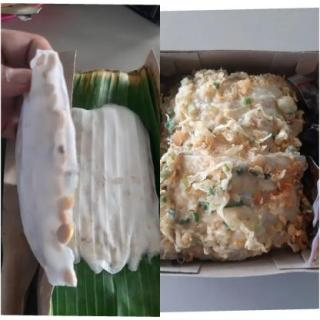Tempe: (15, 50, 159, 289)
